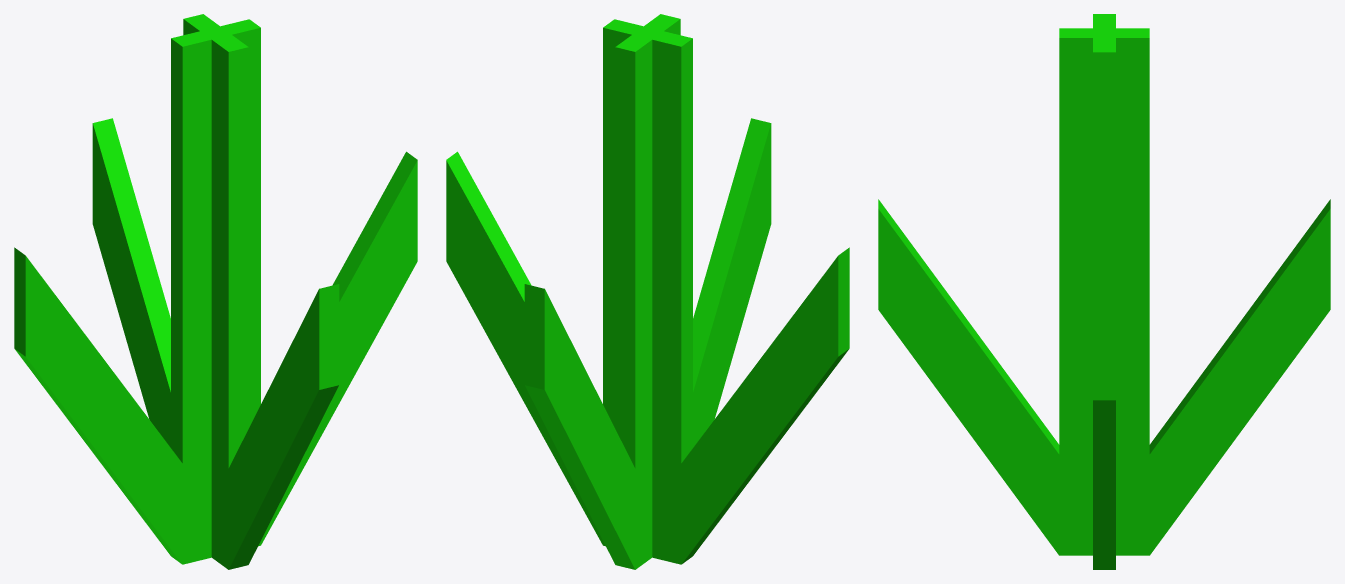
File: wegpunkt.glb
The picture shows the model from 3 angles, left to right: view 1: azimuth 30°, elevation 25°; view 2: azimuth 150°, elevation 25°; view 3: azimuth 270°, elevation 25°; orthographic projection.
Visible parts, largest first — view 1: Cube; view 2: Cube; view 3: Cube.
Boxes of the visible parts, x1,y1,x2,y2 form: Cube: (14, 14, 417, 569); Cube: (446, 14, 849, 569); Cube: (878, 14, 1330, 569).
Bounding box in the file's own units: 2.62 × 3.31 × 2.62.
